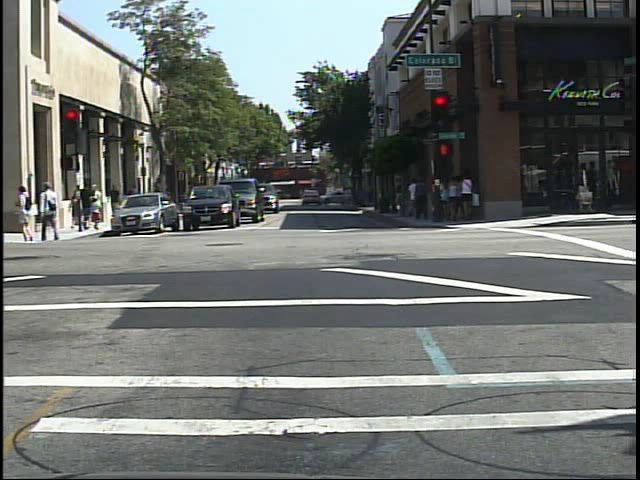person: (41, 177, 64, 244), (15, 185, 37, 243)
